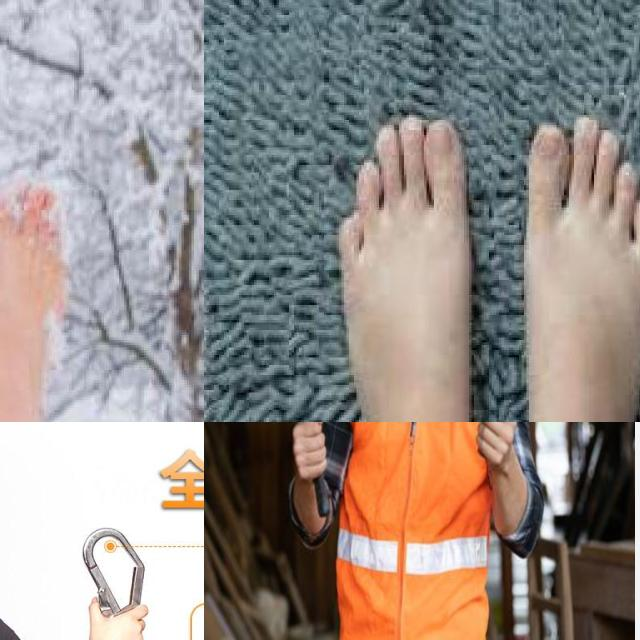Barefoots: (320, 54, 491, 422), (514, 68, 640, 422), (0, 169, 76, 422)
person: (270, 422, 556, 640)
